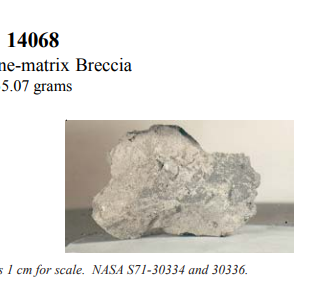Breccia: (66, 117, 265, 234)
